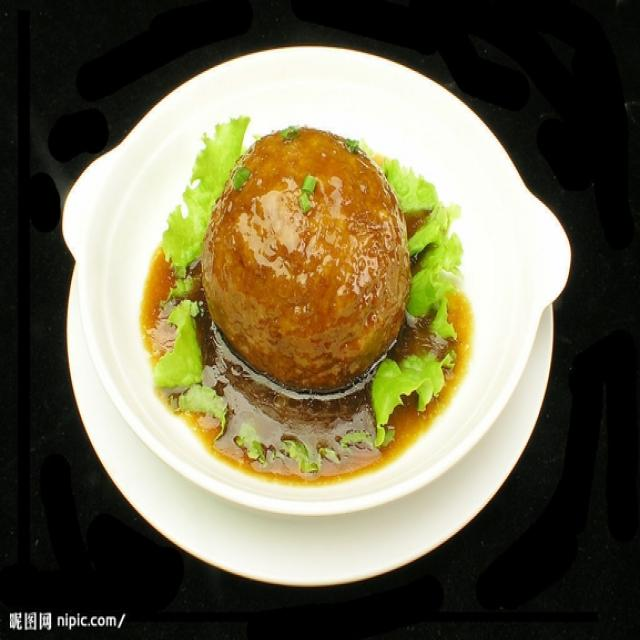Meatball: (198, 108, 418, 402)
